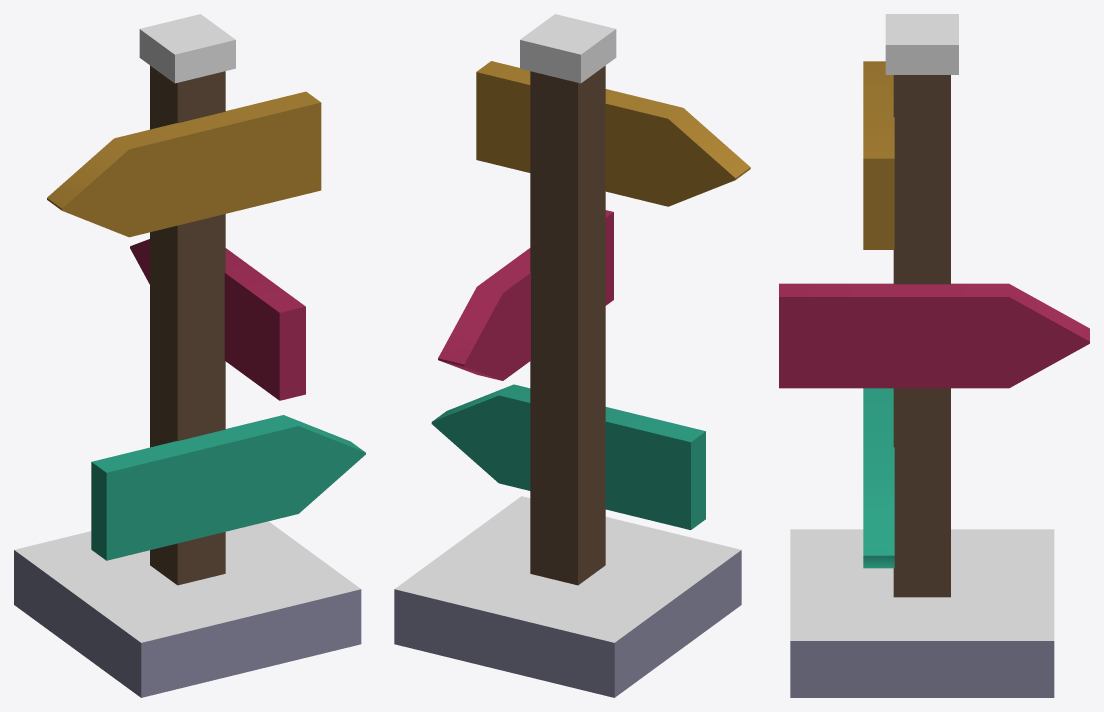
The model's file is 043 Sign Board.fbx.
The picture shows the model from 3 angles, left to right: view 1: azimuth 30°, elevation 25°; view 2: azimuth 150°, elevation 25°; view 3: azimuth 270°, elevation 25°; orthographic projection. The views are drawn at different scales.
Visible parts, largest first — view 1: Lowpoly_Christmas_Pack_043:pCube5; view 2: Lowpoly_Christmas_Pack_043:pCube5; view 3: Lowpoly_Christmas_Pack_043:pCube5.
Part boxes in pixels (x1,y1,x2,y2): Lowpoly_Christmas_Pack_043:pCube5: [14, 14, 365, 697]; Lowpoly_Christmas_Pack_043:pCube5: [394, 14, 750, 697]; Lowpoly_Christmas_Pack_043:pCube5: [779, 14, 1089, 697].
Bounding box in the file's own units: 1.38 × 2.56 × 1.18.
